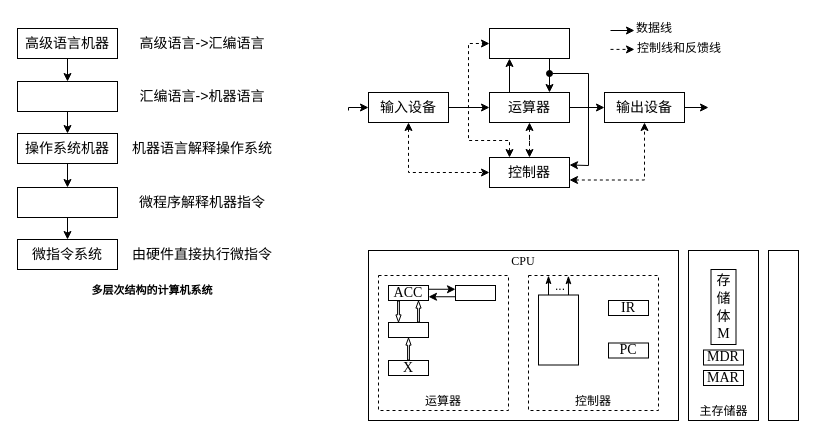
The diagram is 816 pixels wide and 438 high, and some of its shapes have lost their labels. Here are the shapes that lost their labels. From the top down, the box of each, then its label:
(488, 28, 570, 58): 存储器
(16, 80, 118, 112): 汇编语言机器
(16, 186, 118, 218): 机器语言机器
(454, 284, 496, 300): MQ
(388, 322, 428, 338): ALU
(538, 294, 578, 365): CU
(768, 250, 798, 420): I/O 设 备
